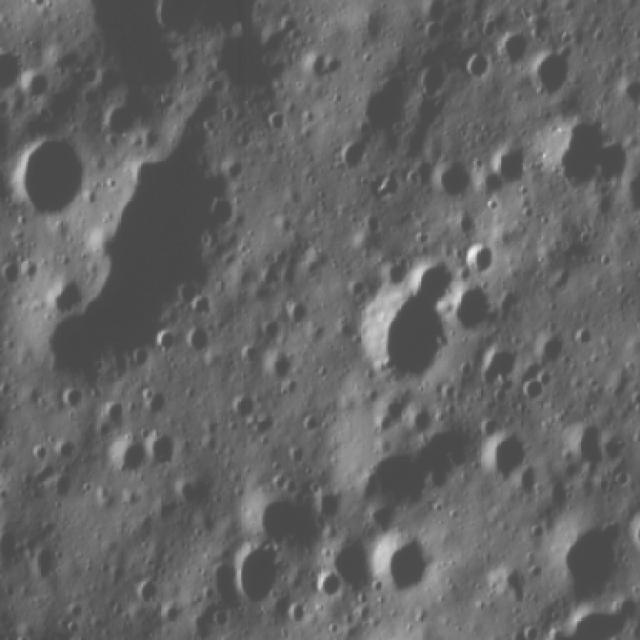crater: (354, 290, 452, 399), (538, 502, 632, 606), (400, 408, 494, 501), (10, 124, 90, 221), (538, 115, 632, 197), (345, 443, 427, 523), (230, 478, 322, 548), (200, 21, 288, 93), (224, 538, 304, 612), (377, 522, 441, 604), (352, 64, 416, 130), (324, 532, 384, 596), (476, 414, 527, 488), (485, 137, 541, 203), (425, 147, 480, 211), (559, 597, 636, 640), (96, 428, 152, 486), (445, 284, 498, 341), (406, 255, 463, 307), (523, 50, 574, 107), (172, 468, 228, 518), (560, 418, 611, 469), (367, 392, 418, 438), (477, 340, 521, 391), (141, 422, 184, 472), (102, 98, 149, 142), (18, 541, 62, 587), (131, 377, 177, 421), (42, 276, 86, 318), (33, 472, 79, 512), (298, 50, 347, 87), (527, 327, 571, 367), (484, 567, 531, 604), (459, 239, 499, 281), (377, 253, 417, 295), (92, 394, 131, 437), (259, 347, 298, 387), (492, 32, 530, 71), (14, 67, 54, 104), (413, 57, 449, 98), (334, 134, 369, 175), (180, 322, 217, 360), (280, 296, 318, 333), (128, 569, 163, 608), (458, 46, 494, 83), (160, 591, 197, 626), (205, 191, 237, 231), (518, 370, 552, 407), (316, 564, 344, 608), (186, 292, 222, 325), (52, 388, 88, 418), (258, 103, 291, 135), (48, 434, 81, 464), (224, 391, 258, 420), (569, 320, 600, 351), (217, 157, 249, 186), (25, 439, 53, 470), (0, 258, 25, 292), (153, 324, 179, 354), (19, 254, 43, 286), (282, 438, 307, 468), (609, 466, 631, 499)
